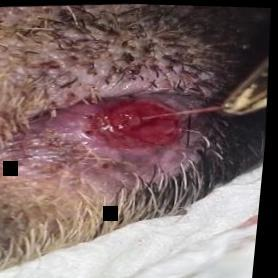skin_lesions: (87, 88, 202, 153)
